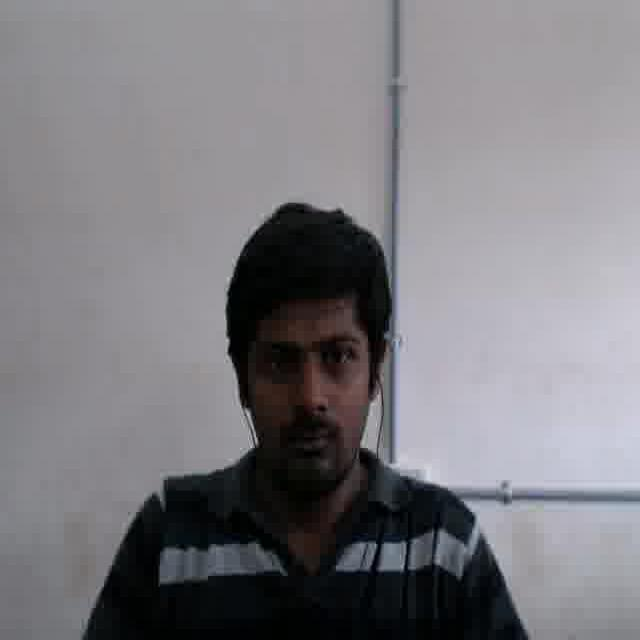Engaged: (242, 289, 366, 491)
